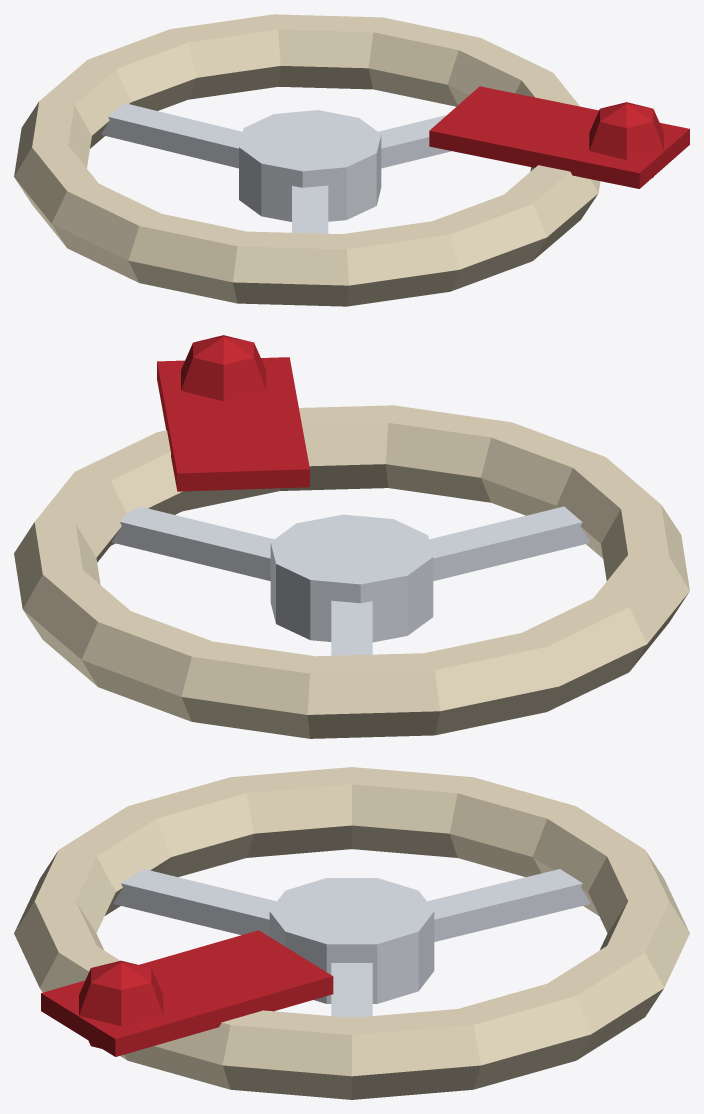
Rendered from steering_wheel.glb.
3 views of the same model, one above another, from view 1: azimuth 30°, elevation 25°; view 2: azimuth 150°, elevation 25°; view 3: azimuth 270°, elevation 25° (orthographic). The views are drawn at different scales.
Parts seen in each view (by area): view 1: wheel_wheel_ivory, ribbon_ribbon_red, hub_chrome, spokes_chrome; view 2: wheel_wheel_ivory, ribbon_ribbon_red, hub_chrome, spokes_chrome; view 3: wheel_wheel_ivory, ribbon_ribbon_red, spokes_chrome, hub_chrome.
Boxes of the visible parts, bbox=[...] form: wheel_wheel_ivory: bbox=[14, 14, 600, 306]; ribbon_ribbon_red: bbox=[429, 86, 689, 188]; hub_chrome: bbox=[239, 110, 381, 221]; spokes_chrome: bbox=[101, 103, 451, 233]; wheel_wheel_ivory: bbox=[14, 405, 689, 738]; ribbon_ribbon_red: bbox=[157, 335, 309, 491]; hub_chrome: bbox=[270, 514, 433, 642]; spokes_chrome: bbox=[111, 506, 590, 655]; wheel_wheel_ivory: bbox=[14, 767, 689, 1099]; ribbon_ribbon_red: bbox=[41, 930, 333, 1056]; spokes_chrome: bbox=[113, 869, 590, 1017]; hub_chrome: bbox=[269, 878, 434, 1003].
Size of the model in its own units: 0.4232 by 0.085 by 0.41.
